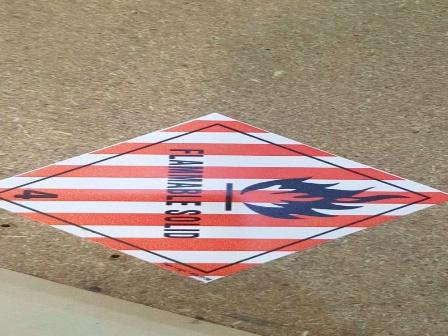flammable-solid: (1, 114, 448, 284)
